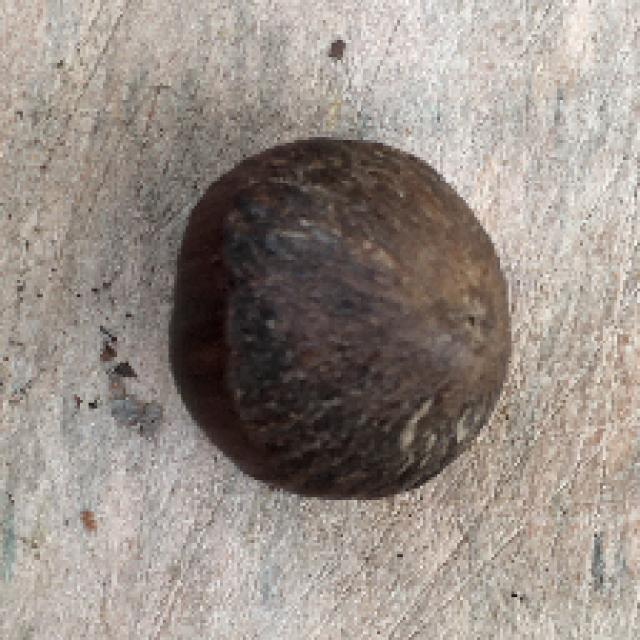damagedHazelnut: (159, 133, 520, 505)
